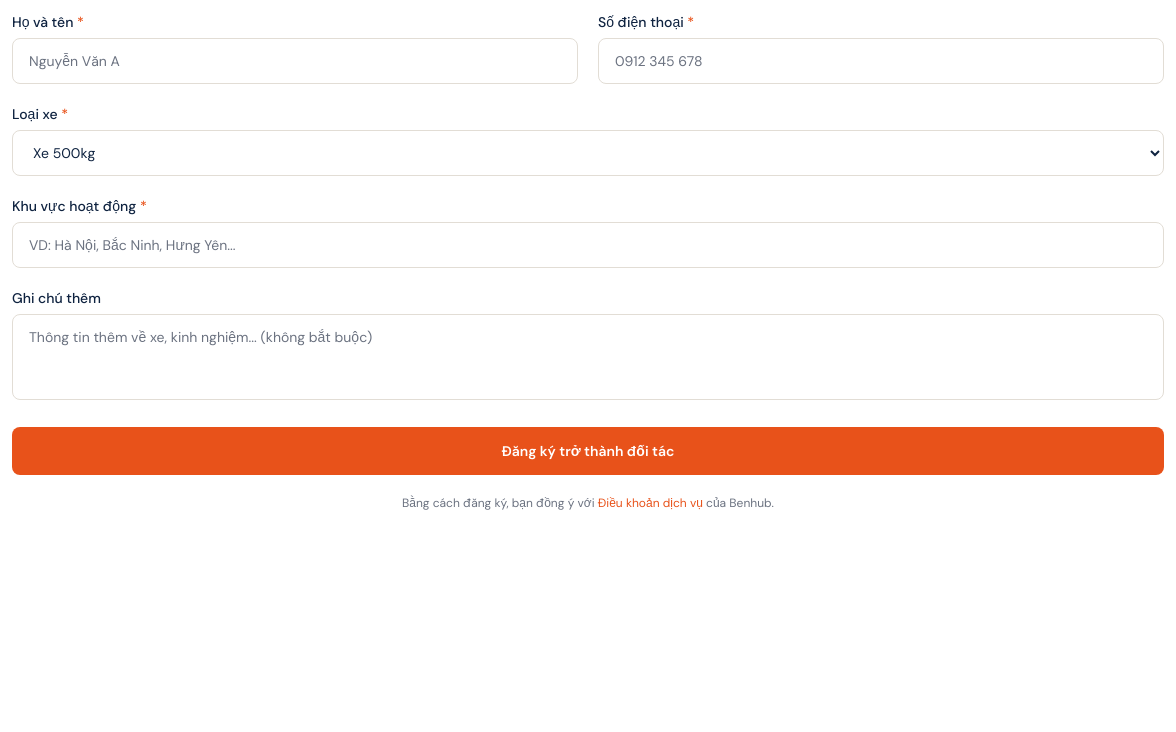
Test: PartnerForm — validation › shows error when fullName is missing
The width and height of the screenshot is (1176, 732).
Click the button "Đăng ký trở thành đối tác" at (588, 451), box [12,427,1164,475]
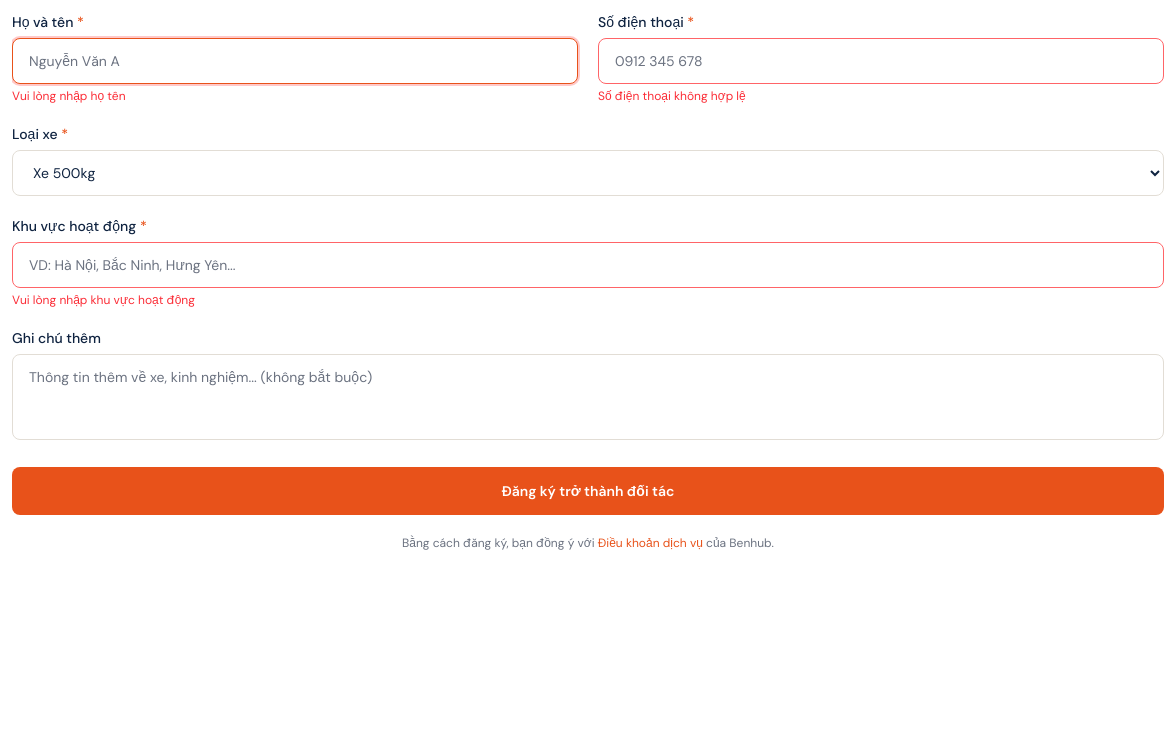
Now the text "Vui lòng nhập họ tên" is shown, box [12,88,126,104]
